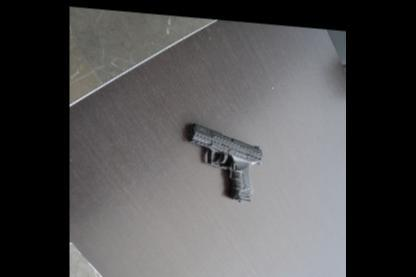pistol: (188, 116, 263, 196)
